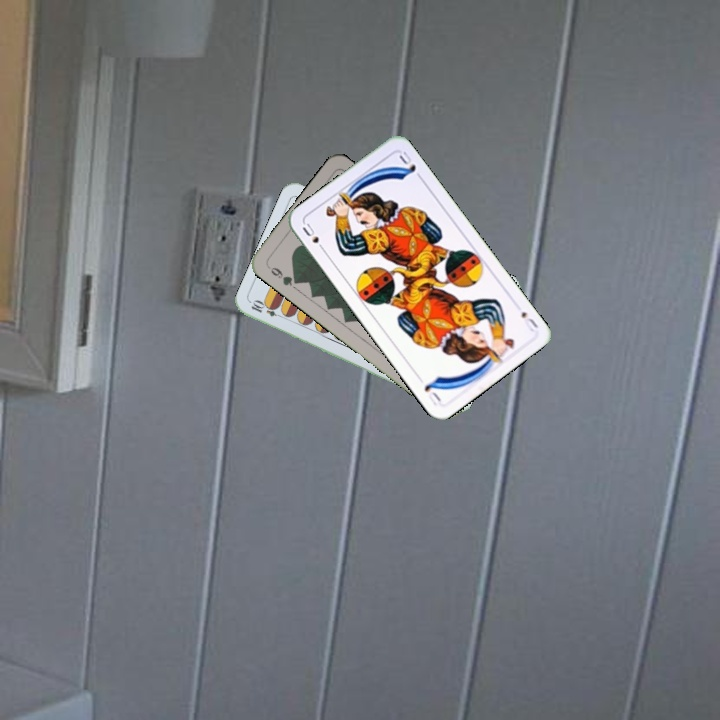E10: (247, 297, 287, 321)
G9: (263, 262, 302, 288)
SU: (298, 219, 328, 255), (517, 307, 541, 334)
